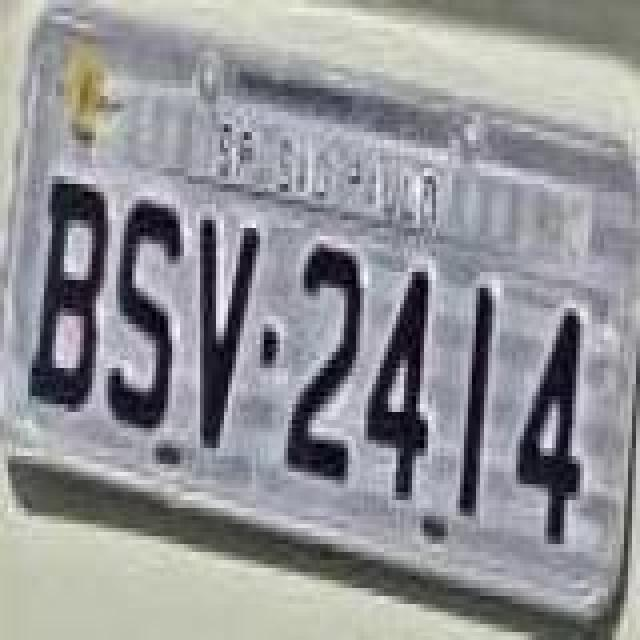1: (454, 278, 498, 522)
2: (286, 238, 370, 490)
4: (516, 302, 588, 546), (364, 266, 436, 502)
B: (22, 174, 106, 418)
S: (108, 190, 188, 434)
V: (194, 210, 262, 454)
